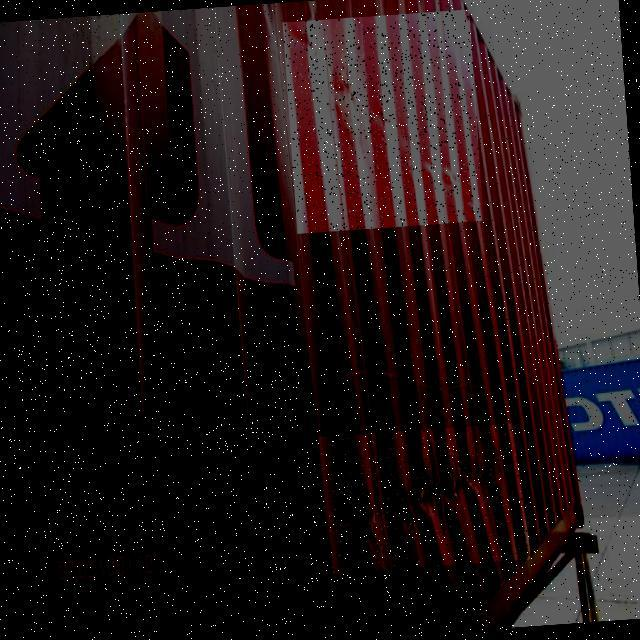Dent: (318, 422, 530, 573)
Minor-Dent: (283, 9, 484, 234)
